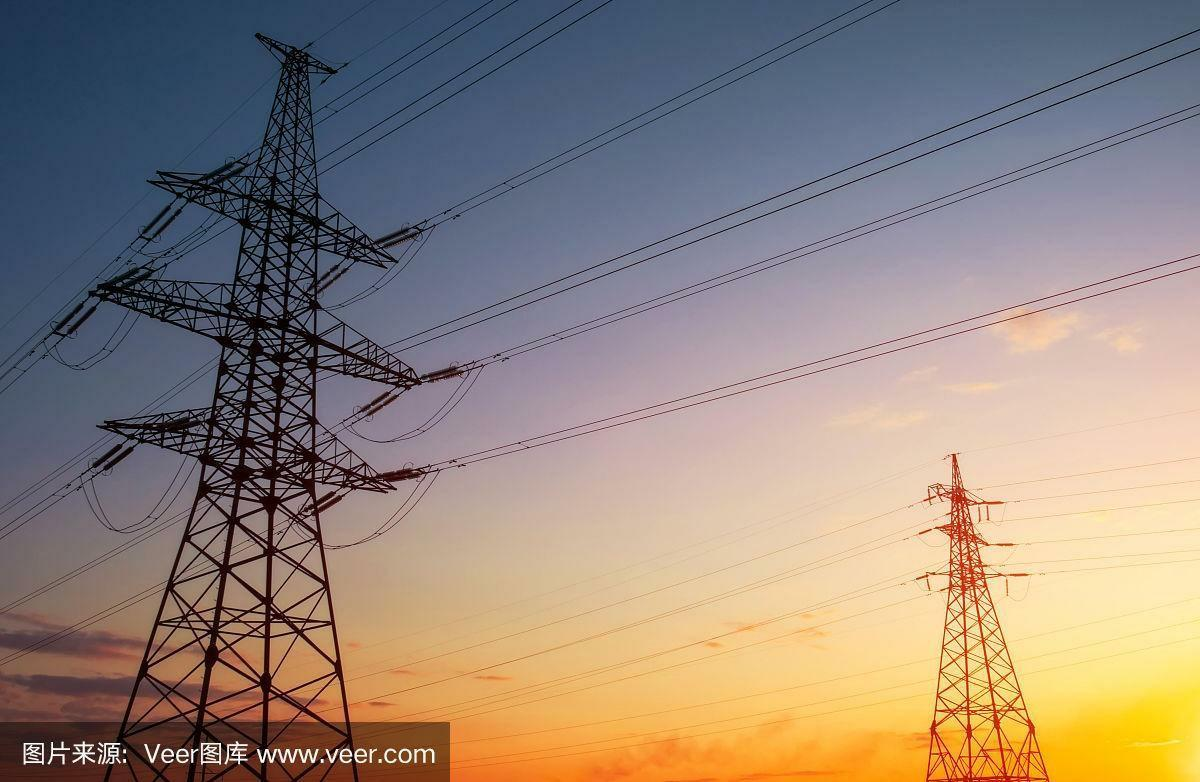power_tower: (84, 26, 422, 716), (907, 442, 1057, 782)
